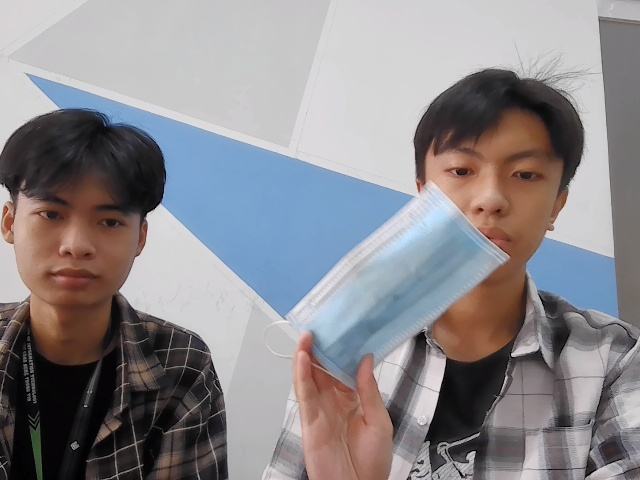human: (1, 103, 189, 315), (417, 64, 573, 270)
mask: (283, 181, 508, 386)
